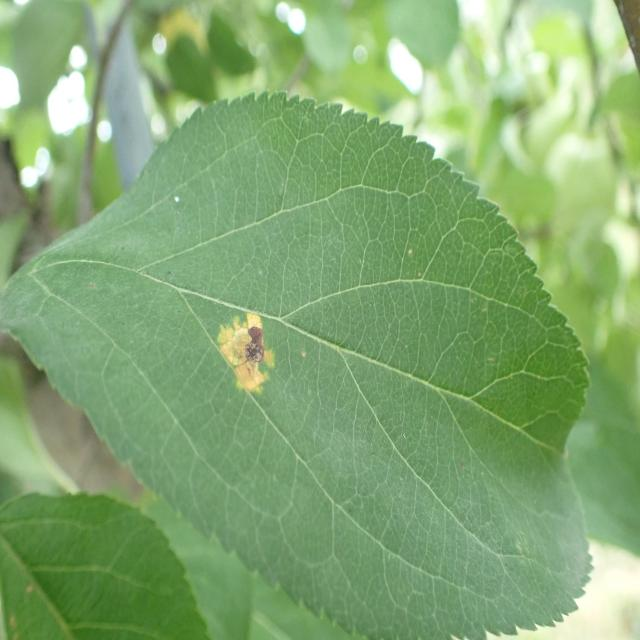Rust: (216, 292, 278, 408)
